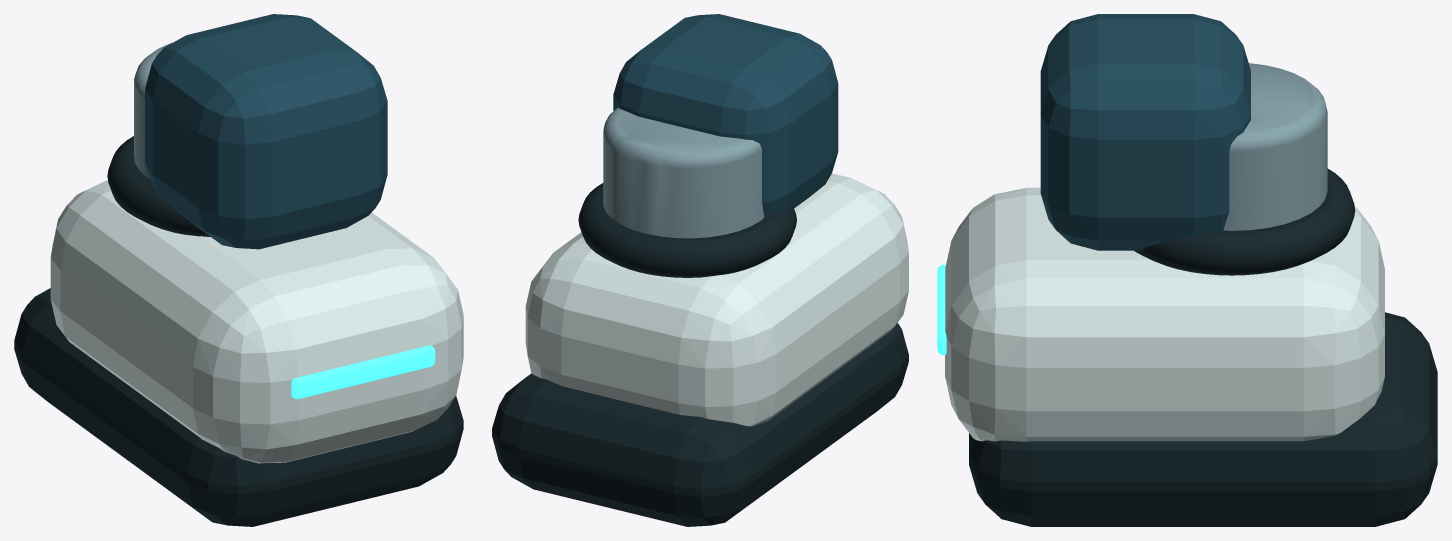
File: SM_PATCH_Leg_R.fbx
3 views of the same model, side by side, from view 1: azimuth 30°, elevation 25°; view 2: azimuth 150°, elevation 25°; view 3: azimuth 270°, elevation 25° (orthographic). The views are drawn at different scales.
Parts seen in each view (by area): view 1: SM_PATCH_Leg_R; view 2: SM_PATCH_Leg_R; view 3: SM_PATCH_Leg_R.
Boxes of the visible parts, x1=… form: SM_PATCH_Leg_R: x1=14, y1=14, x2=463, y2=526; SM_PATCH_Leg_R: x1=492, y1=14, x2=908, y2=526; SM_PATCH_Leg_R: x1=937, y1=14, x2=1437, y2=526.
Size of the model in its own units: 34 by 52.3 by 50.5.
